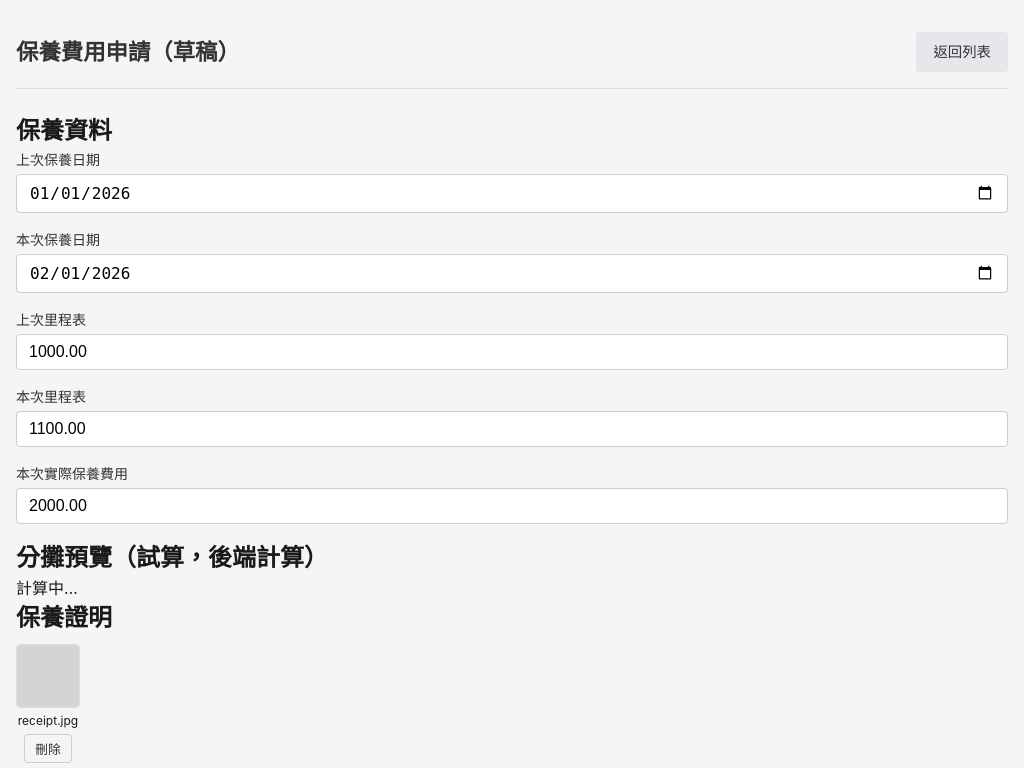
Test case: MaintenanceApplicationPage › 完成申請：dirty 時確認框顯示「有未儲存的變更，請先儲存草稿」且確認鈕停用
The width and height of the screenshot is (1024, 768).
Replace the text in the number field labelled "本次實際保養費用" with "2500": point(512, 506) [16,488,1008,524]
(page scrolled)
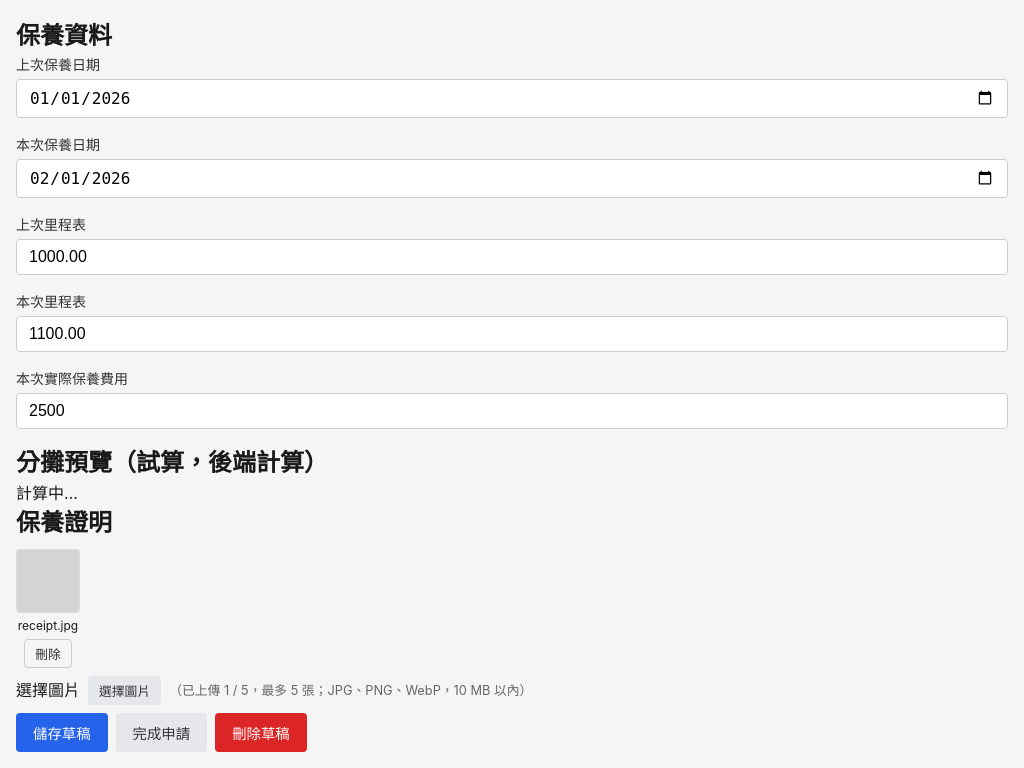
Click the button "完成申請": point(161, 732) [116,713,207,752]
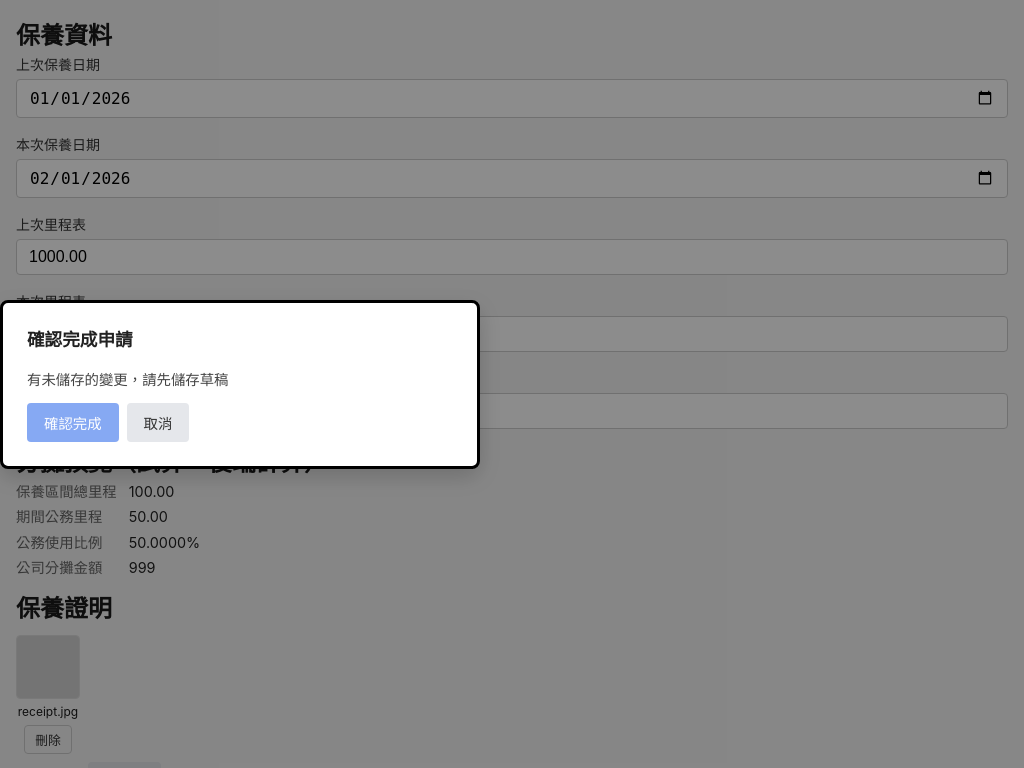
Expected: the text "有未儲存的變更，請先儲存草稿" is shown, [27,371,228,388]
Expected: the button "確認完成" is disabled, [27,402,119,442]
